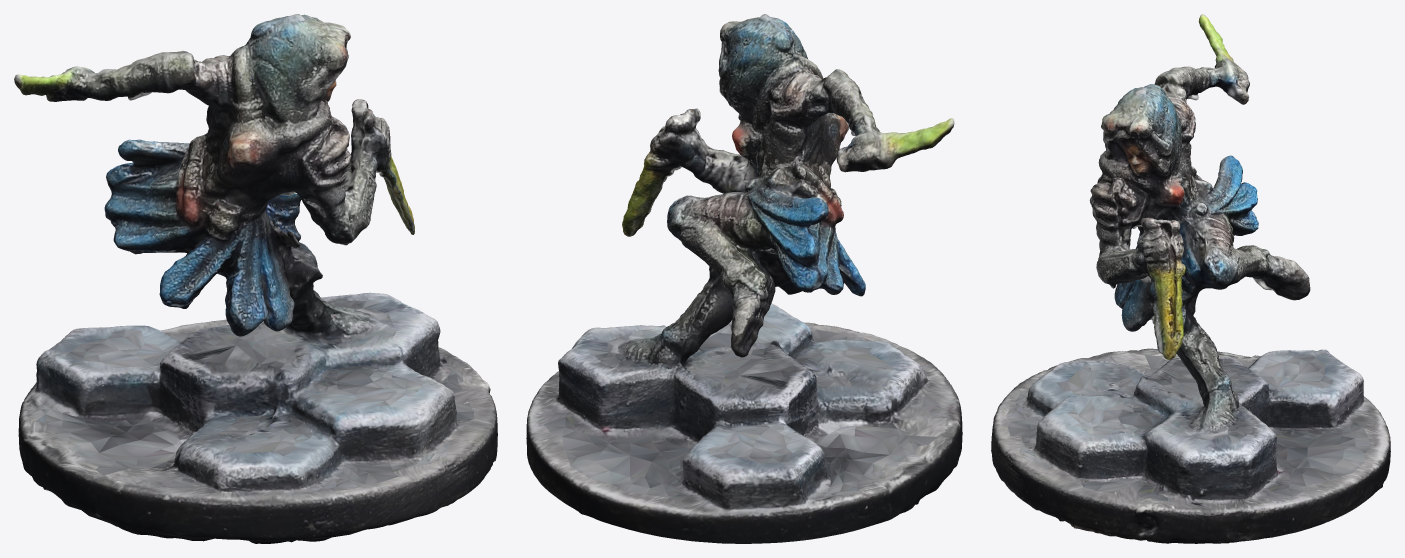
The model's file is Blinkblade.glb.
The picture shows the model from 3 angles, left to right: view 1: azimuth 30°, elevation 25°; view 2: azimuth 150°, elevation 25°; view 3: azimuth 270°, elevation 25°; orthographic projection. The views are drawn at different scales.
Parts seen in each view (by area): view 1: blinkblade; view 2: blinkblade; view 3: blinkblade.
Boxes of the visible parts, x1,y1,x2,y2 form: blinkblade: [14, 14, 497, 543]; blinkblade: [526, 14, 962, 543]; blinkblade: [991, 14, 1390, 543].
Bounding box in the file's own units: 8.66 × 8.47 × 8.17.
Materials: 1 (1 with a texture image).
